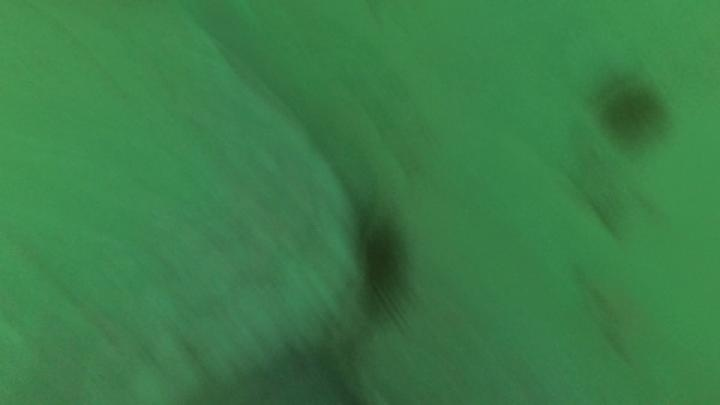echinus: (347, 203, 418, 329), (586, 66, 674, 152)
